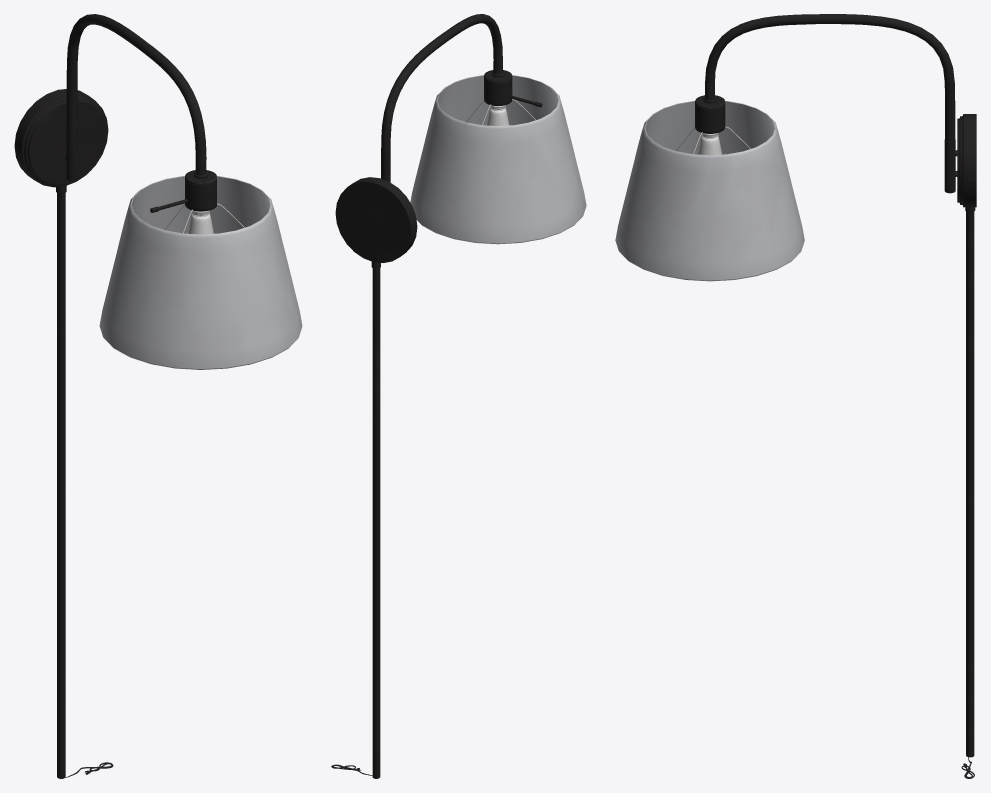
The model's file is abo-B0824F2D7Y.glb.
The picture shows the model from 3 angles, left to right: view 1: azimuth 30°, elevation 25°; view 2: azimuth 150°, elevation 25°; view 3: azimuth 270°, elevation 25°; orthographic projection. The views are drawn at different scales.
Size of the model in its own units: 0.092 by 0.399 by 0.176.
Materials: 1 (1 with a texture image).
